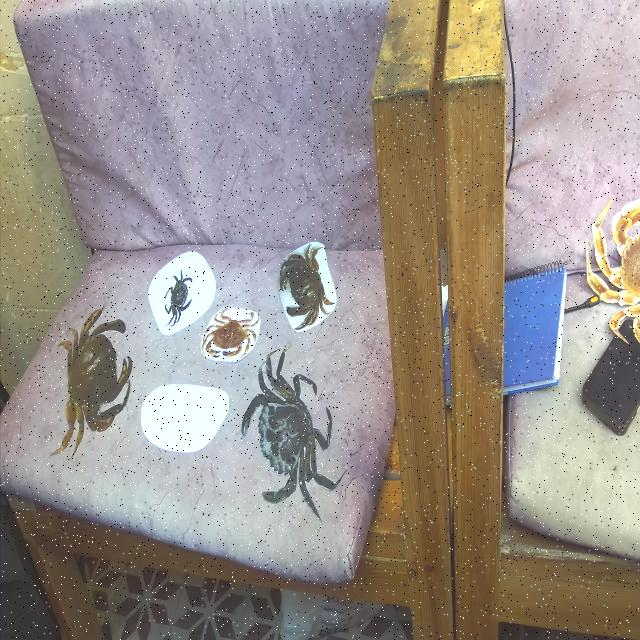European_Green_Crab: (227, 322, 358, 565), (162, 265, 194, 334)
